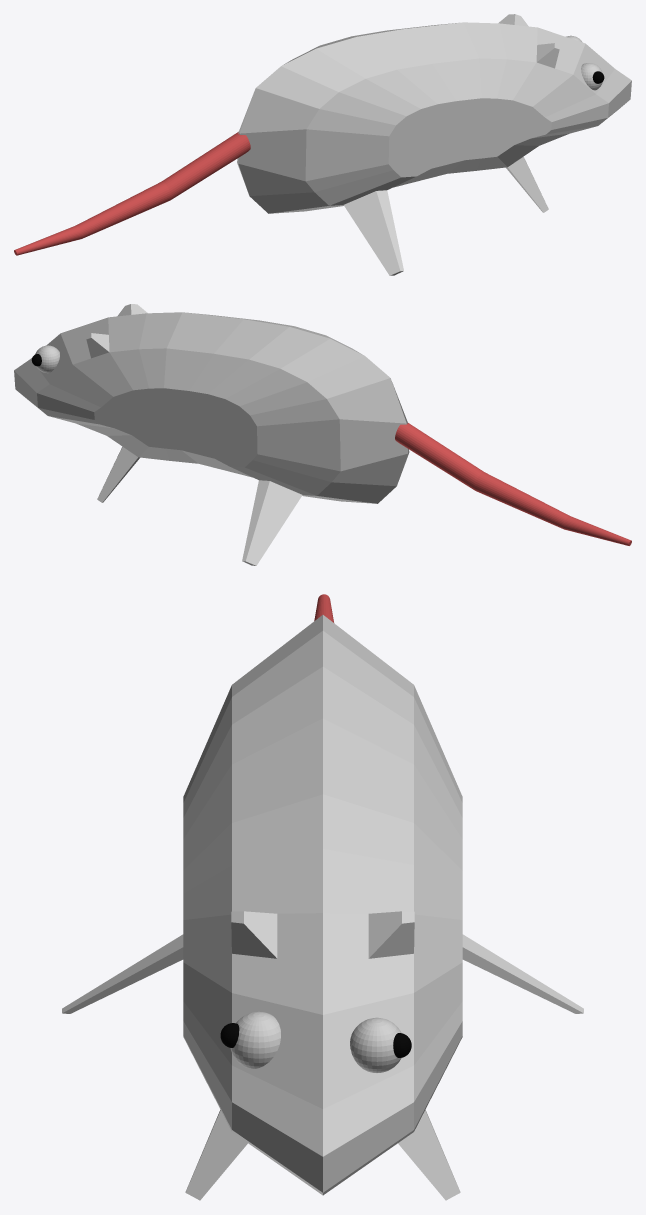
Rendered from regularrat.obj.
3 views of the same model, one above another, from view 1: azimuth 30°, elevation 25°; view 2: azimuth 150°, elevation 25°; view 3: azimuth 270°, elevation 25° (orthographic). The views are drawn at different scales.
Parts seen in each view (by area): view 1: Plane, Cylinder; view 2: Plane, Cylinder, Sphere.001; view 3: Plane, Sphere.001, Sphere.
Part boxes in pixels (x1,y1,x2,y2): Plane: [237, 14, 631, 275]; Cylinder: [14, 132, 250, 255]; Plane: [14, 304, 409, 565]; Cylinder: [395, 423, 631, 545]; Sphere.001: [35, 345, 59, 373]; Plane: [62, 615, 583, 1200]; Sphere.001: [350, 1017, 401, 1072]; Sphere: [230, 1011, 280, 1068].
Bounding box in the file's own units: 6.9 × 2.04 × 2.53.
